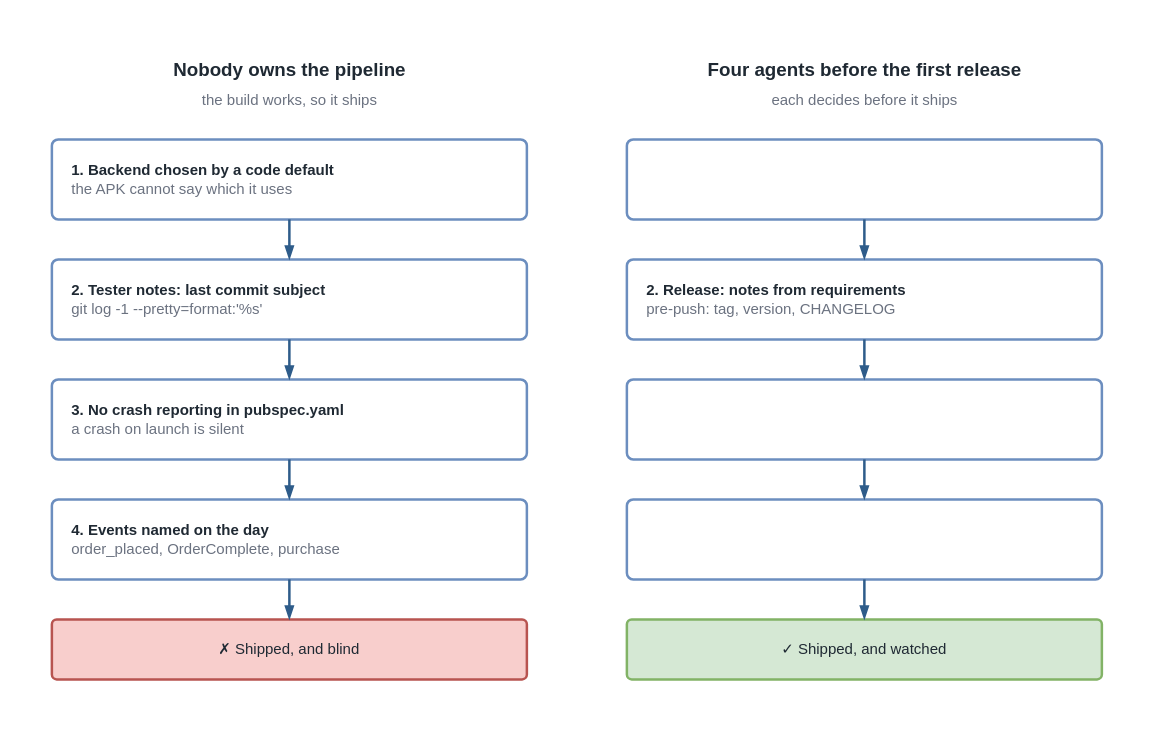
Image size: 1153x730. Some labels were removed from this diagram. The centre of each missing label's shape, as x and y in pixels:
"1. DevOps: backend per build --dart-define, shown in About" belongs at point (863, 179).
"3. Monitoring: incident questions first pre-commit: no empty catch" belongs at point (863, 419).
"4. Analytics: events.yaml first 14 events, one name per action" belongs at point (863, 539).
